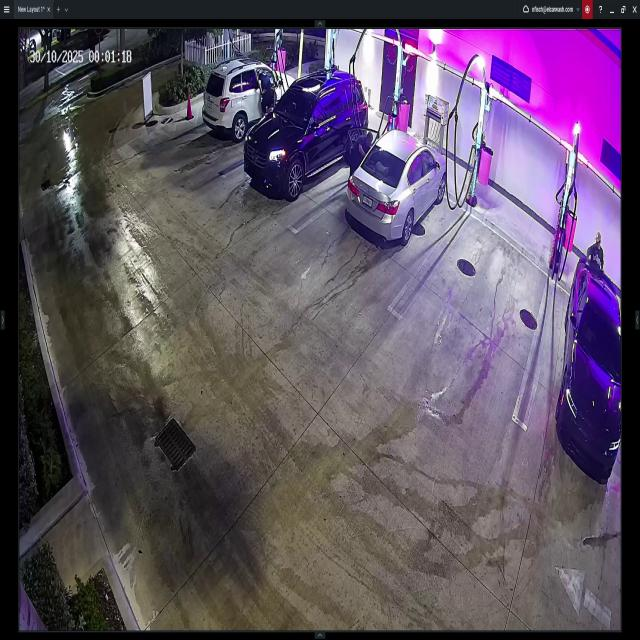Car: (245, 72, 370, 197), (555, 256, 621, 484), (344, 127, 449, 247), (200, 64, 284, 140)
